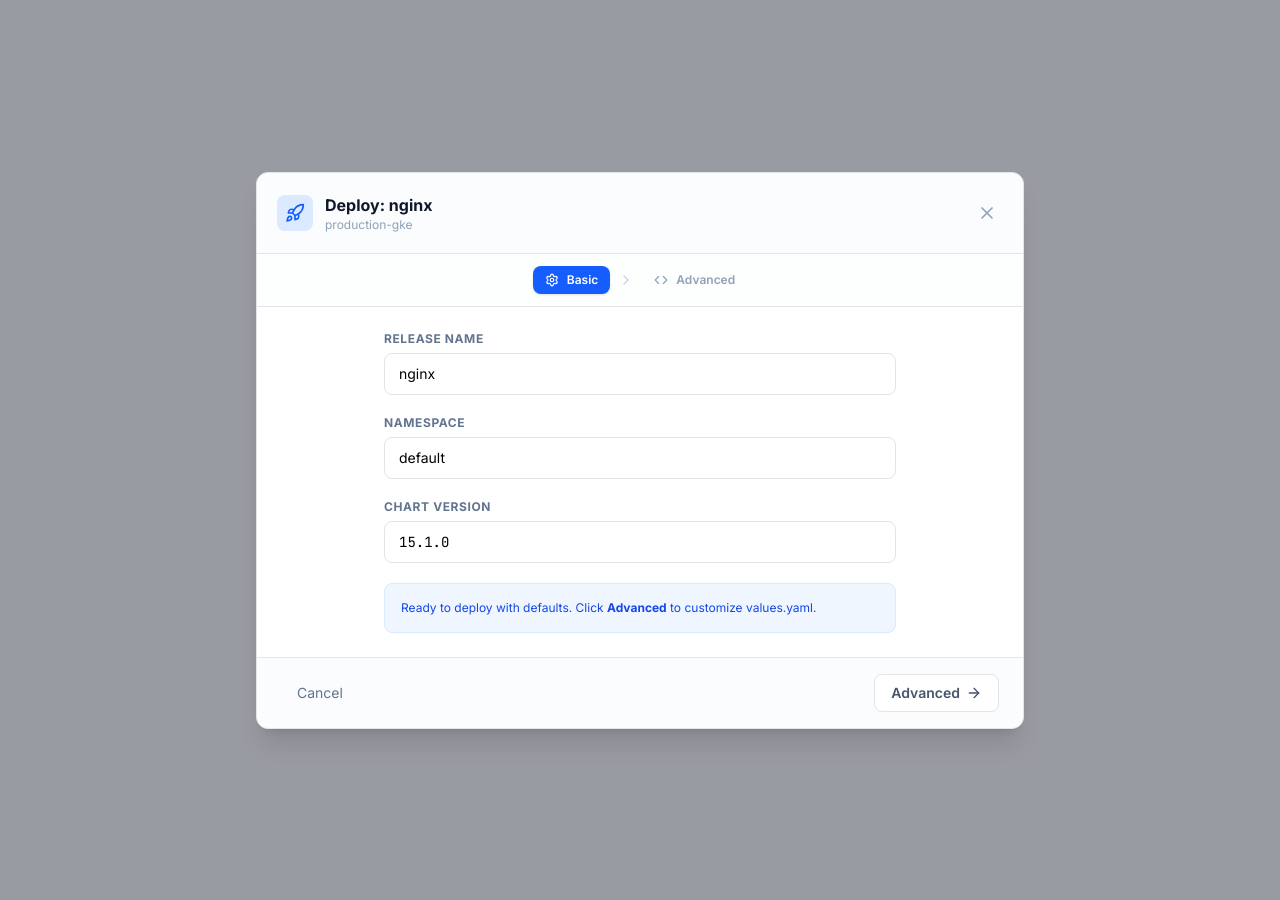
Test: InstallChartModal › clicking Basic step indicator on Advanced step goes back to Basic
Step 1. Click the 1st button "Advanced" → (695, 280), box [642,266,747,294]
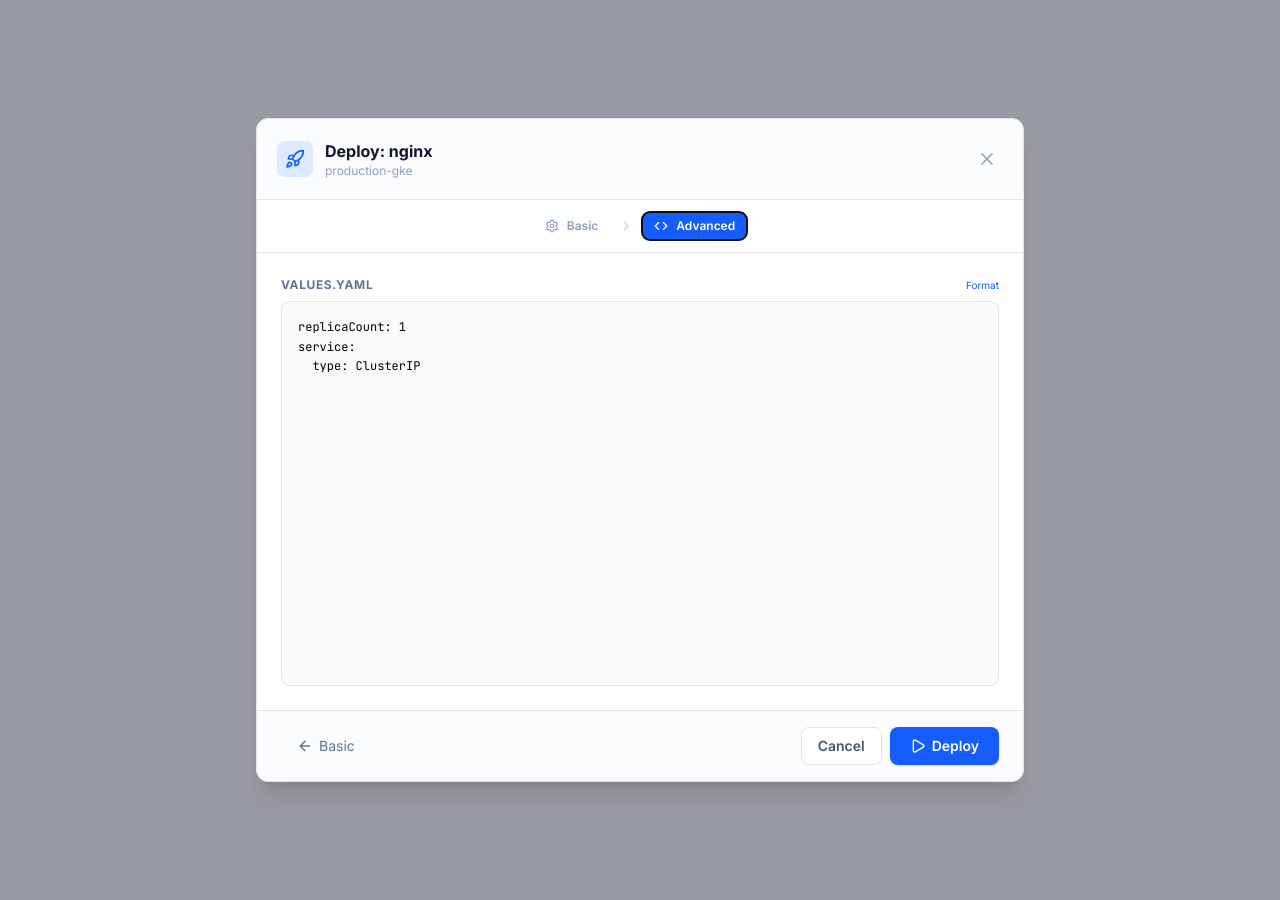
Expected: the text "values.yaml" is shown, [281,277,373,293]
Step 2. Click the 1st button "Basic" → (572, 226), box [533,212,610,240]
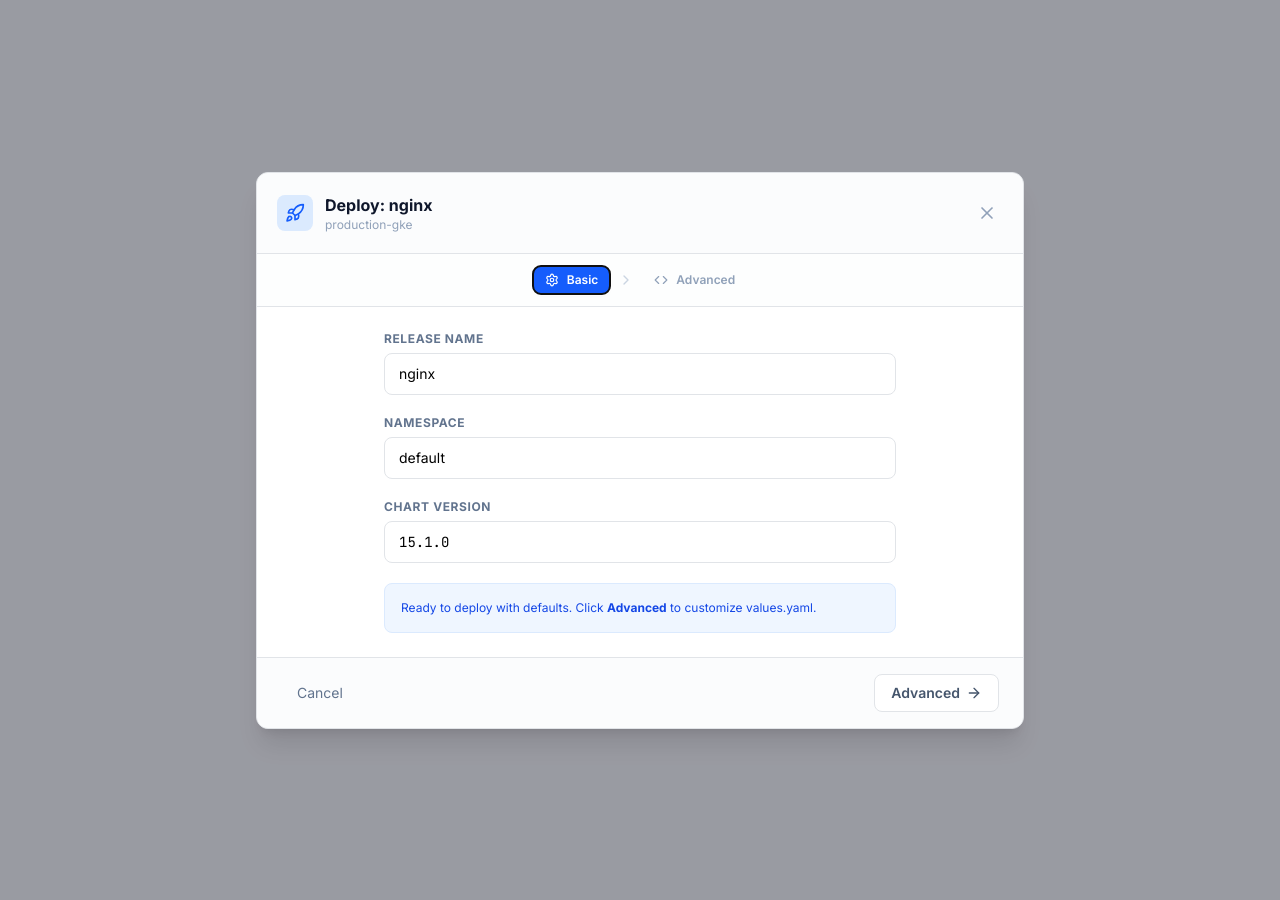
Expected: the text "Release Name" is shown, [384,330,484,346]
